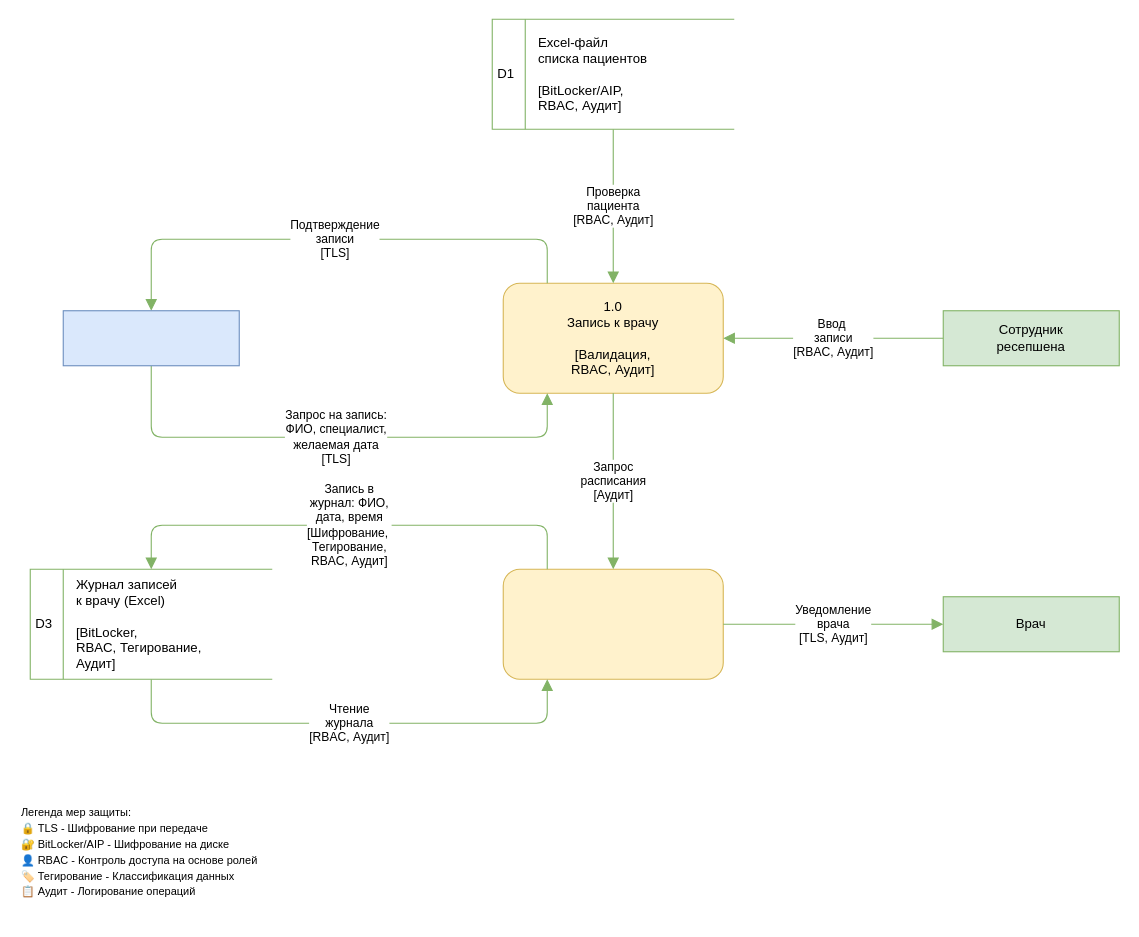
Some shapes in this 1139 by 937 pixel diagram are drawn without their labels. Here are the shapes that lost their labels. From the top down, the centre of each, then its label:
(150,338): Пациент
(612,623): 2.0 Проверка расписания [RBAC, Аудит]
